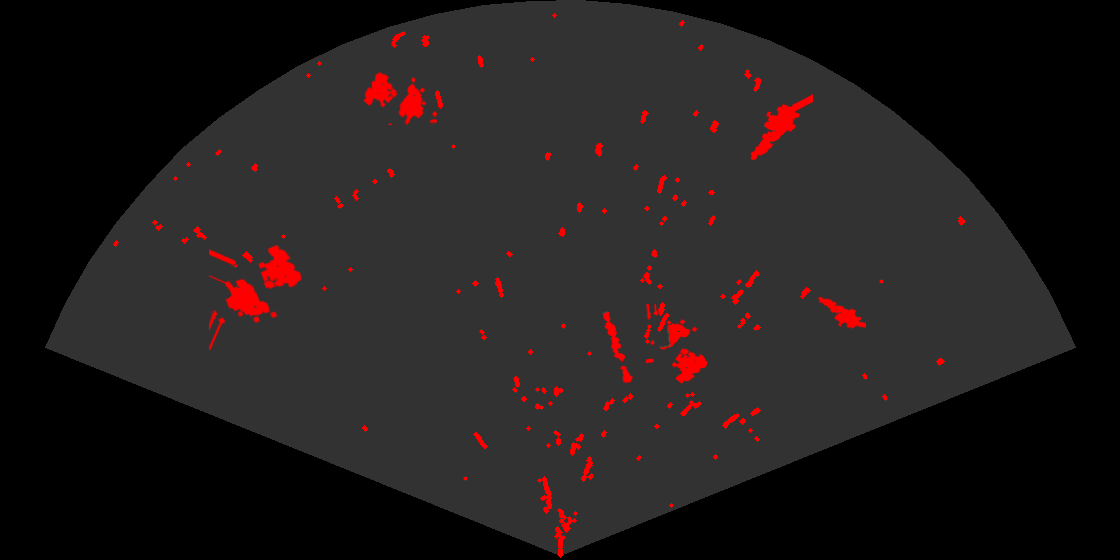cage: (209, 243, 303, 350), (646, 304, 709, 385), (361, 70, 437, 125)
chain: (601, 310, 635, 385)
frogman: (749, 93, 813, 162), (815, 295, 866, 330)
